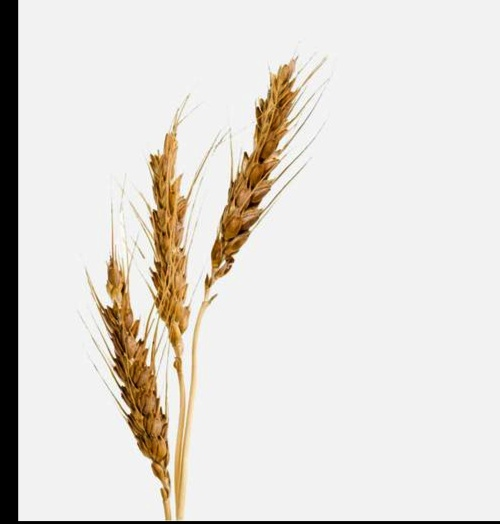wheat: (200, 37, 337, 330), (68, 241, 174, 487), (145, 110, 191, 376)
